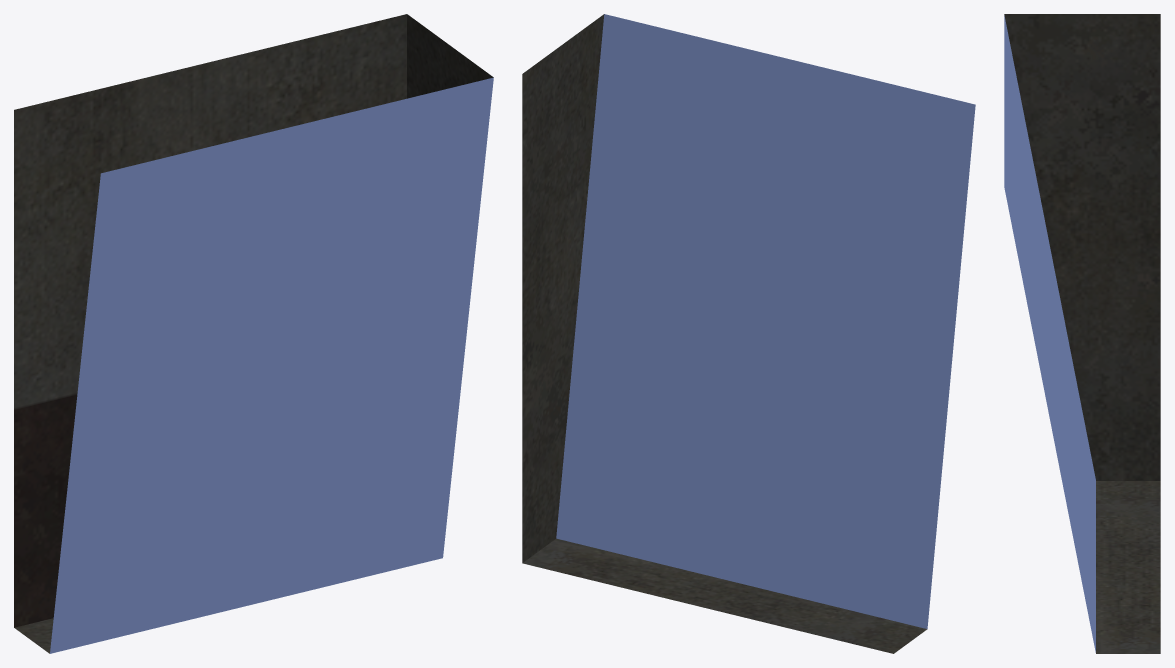
File: RightDoor.glb
3 renders of one model, left to right at view 1: azimuth 30°, elevation 25°; view 2: azimuth 150°, elevation 25°; view 3: azimuth 270°, elevation 25°, orthographic. The views are drawn at different scales.
Visible parts, largest first — view 1: DoorRight; view 2: DoorRight; view 3: DoorRight.
Boxes of the visible parts, x1,y1,x2,y2 form: DoorRight: (14, 14, 493, 653); DoorRight: (522, 14, 975, 653); DoorRight: (1004, 14, 1160, 653).
Bounding box in the file's own units: 3.86 × 4.85 × 1.47.
2 materials, 1 textured.
